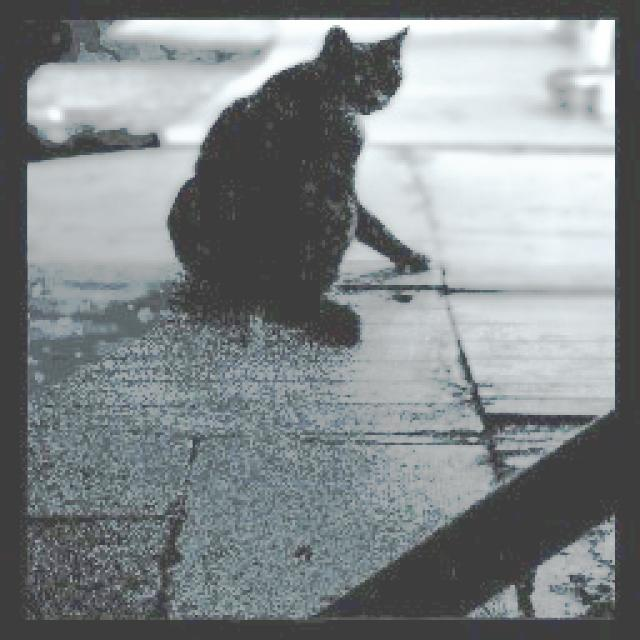cat: (143, 17, 452, 358)
